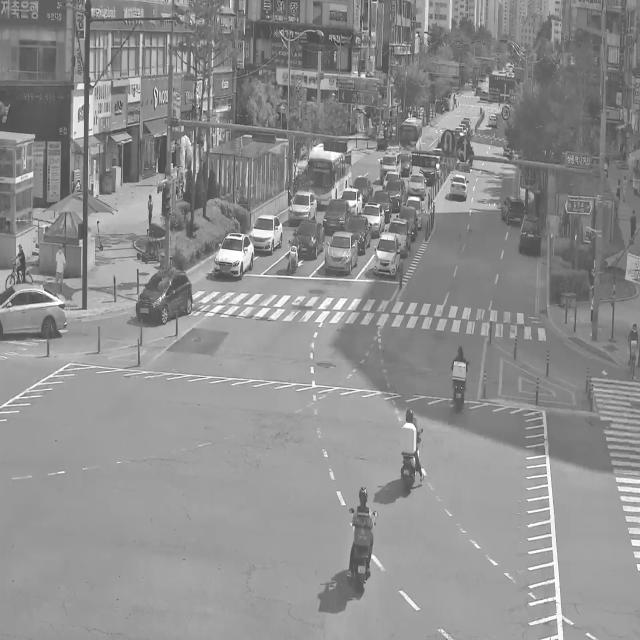Bus: (304, 133, 353, 206), (393, 115, 424, 151)
Car: (0, 283, 67, 339), (135, 268, 193, 325), (214, 232, 254, 278), (325, 229, 358, 275), (249, 214, 283, 255), (291, 220, 325, 259), (372, 232, 400, 278), (288, 189, 318, 226), (321, 195, 351, 232), (388, 216, 414, 258), (519, 215, 542, 256), (347, 218, 370, 253), (500, 195, 525, 225), (399, 202, 418, 240), (383, 177, 405, 209), (362, 202, 384, 233), (407, 174, 429, 204), (379, 149, 399, 181), (372, 186, 392, 218), (419, 156, 441, 182), (350, 168, 370, 195), (344, 185, 361, 216), (449, 174, 468, 200), (408, 192, 422, 221), (400, 153, 412, 174), (488, 114, 498, 127)
Motorcycle: (346, 486, 378, 594), (398, 408, 424, 498), (451, 345, 471, 414), (287, 230, 304, 274)
